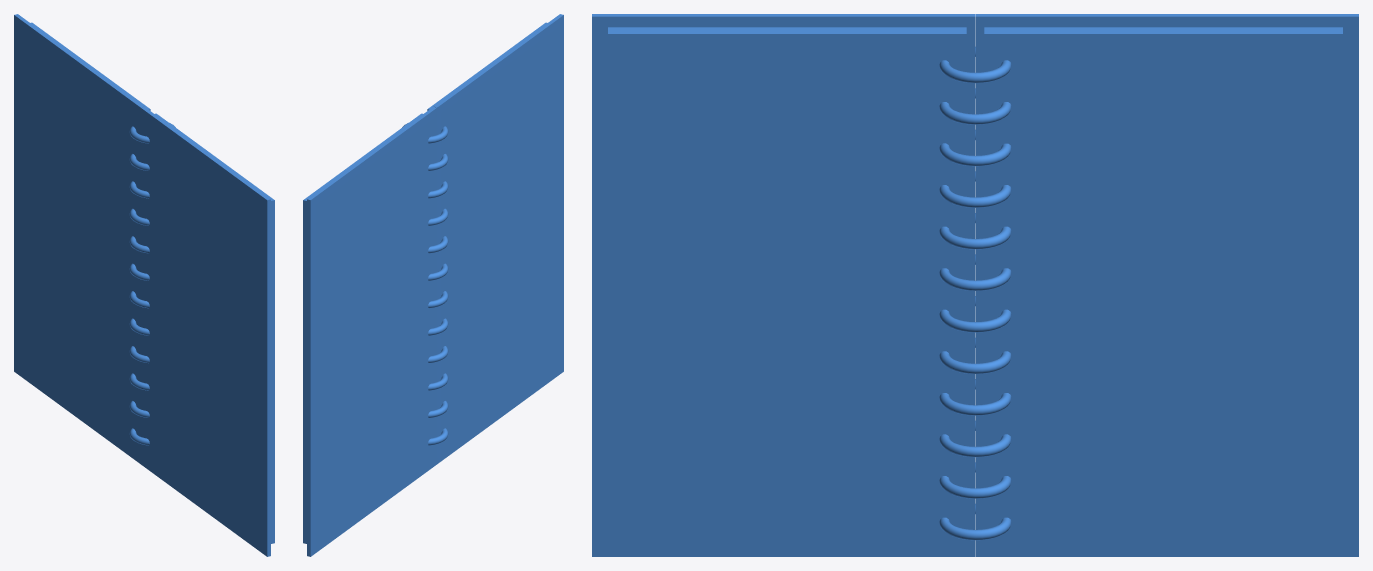
File: notebook1.fbx
3 renders of one model, left to right at view 1: azimuth 30°, elevation 25°; view 2: azimuth 150°, elevation 25°; view 3: azimuth 270°, elevation 25°, orthographic. The views are drawn at different scales.
Visible parts, largest first — view 1: Cube.001, Cube, Circle; view 2: Cube, Cube.001, Circle; view 3: Cube, Cube.001, Circle.
Part boxes in pixels (x1,y1,x2,y2): Cube.001: (140,107,274,556); Cube: (14,14,150,463); Circle: (129,123,175,445); Cube: (303,107,437,556); Cube.001: (427,14,563,463); Circle: (402,123,448,445); Cube: (975,14,1358,556); Cube.001: (592,14,975,556); Circle: (939,47,1011,540).
Bounding box in the file's own units: 3.15 × 26 × 33.45.
